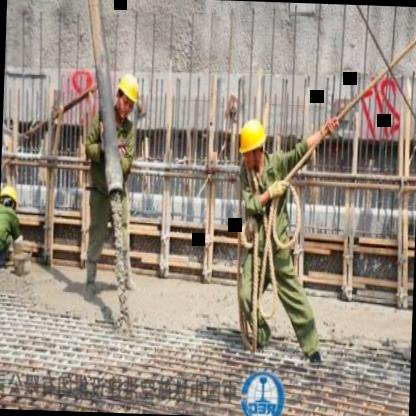helmet: (236, 114, 270, 174), (114, 69, 142, 123), (0, 180, 20, 213)
